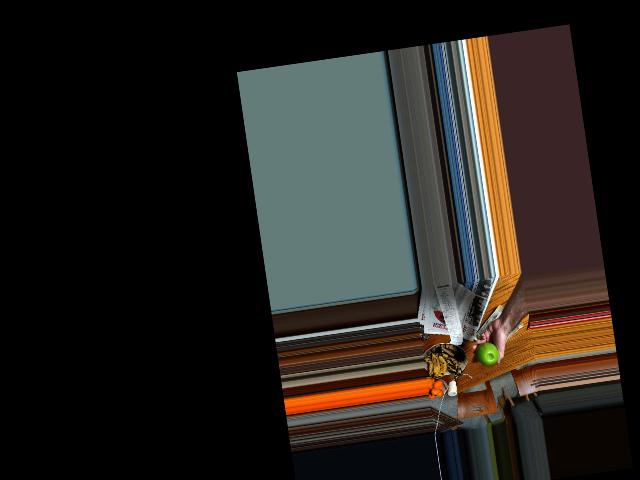apple: (473, 339, 502, 367)
